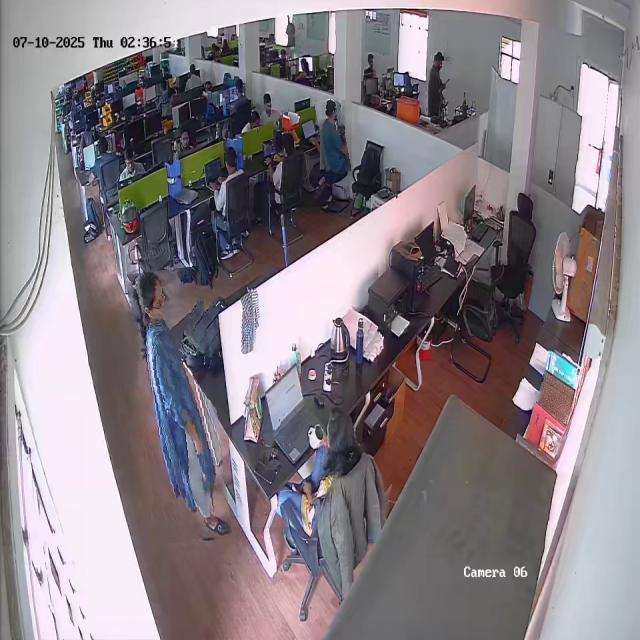person: (134, 268, 224, 543), (317, 99, 348, 175)
